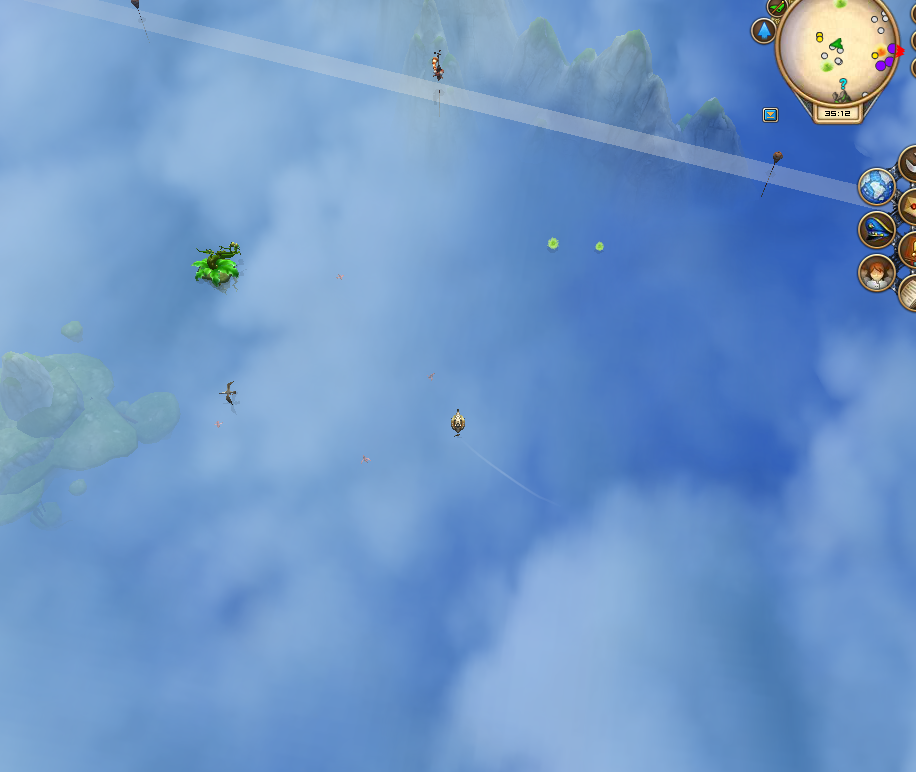dandelion-empty: (190, 237, 245, 292)
fluff: (544, 234, 562, 254), (591, 239, 607, 255)
